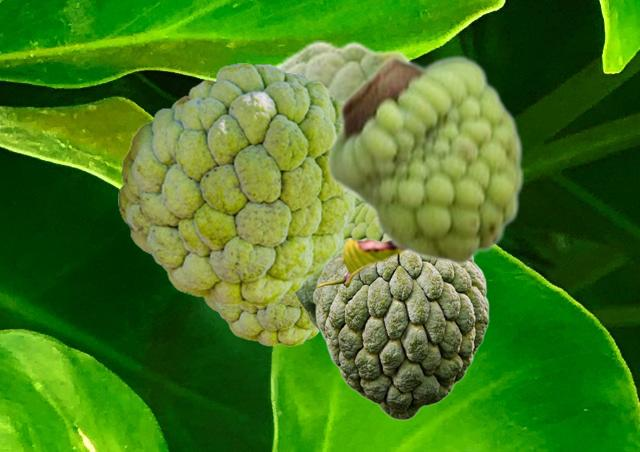atis: (118, 63, 358, 305), (326, 53, 524, 267), (312, 237, 488, 419), (294, 201, 383, 334), (271, 40, 414, 98), (202, 295, 319, 345)
